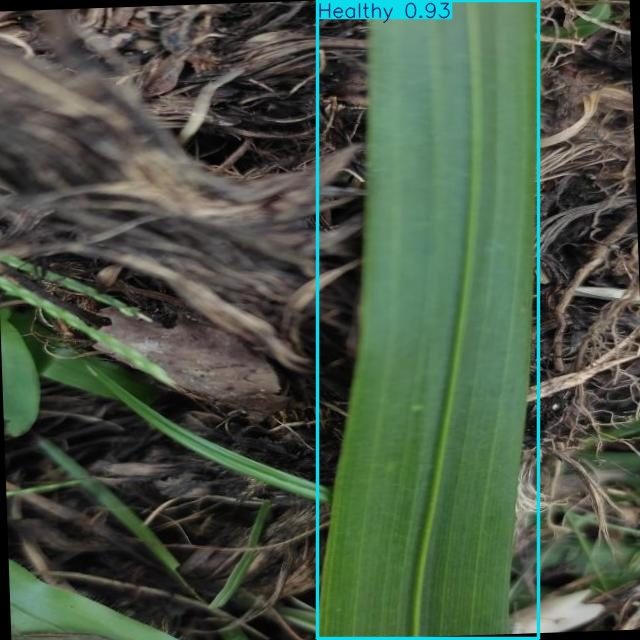Healthy: (317, 1, 539, 639)
